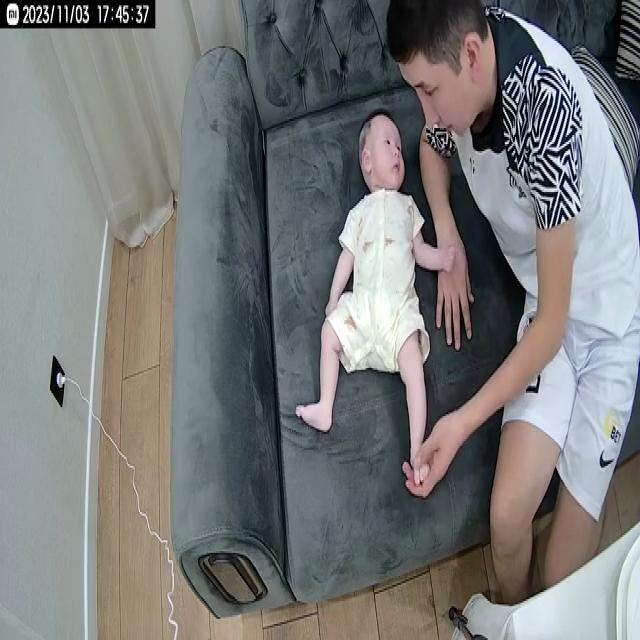baby: (294, 104, 458, 500)
